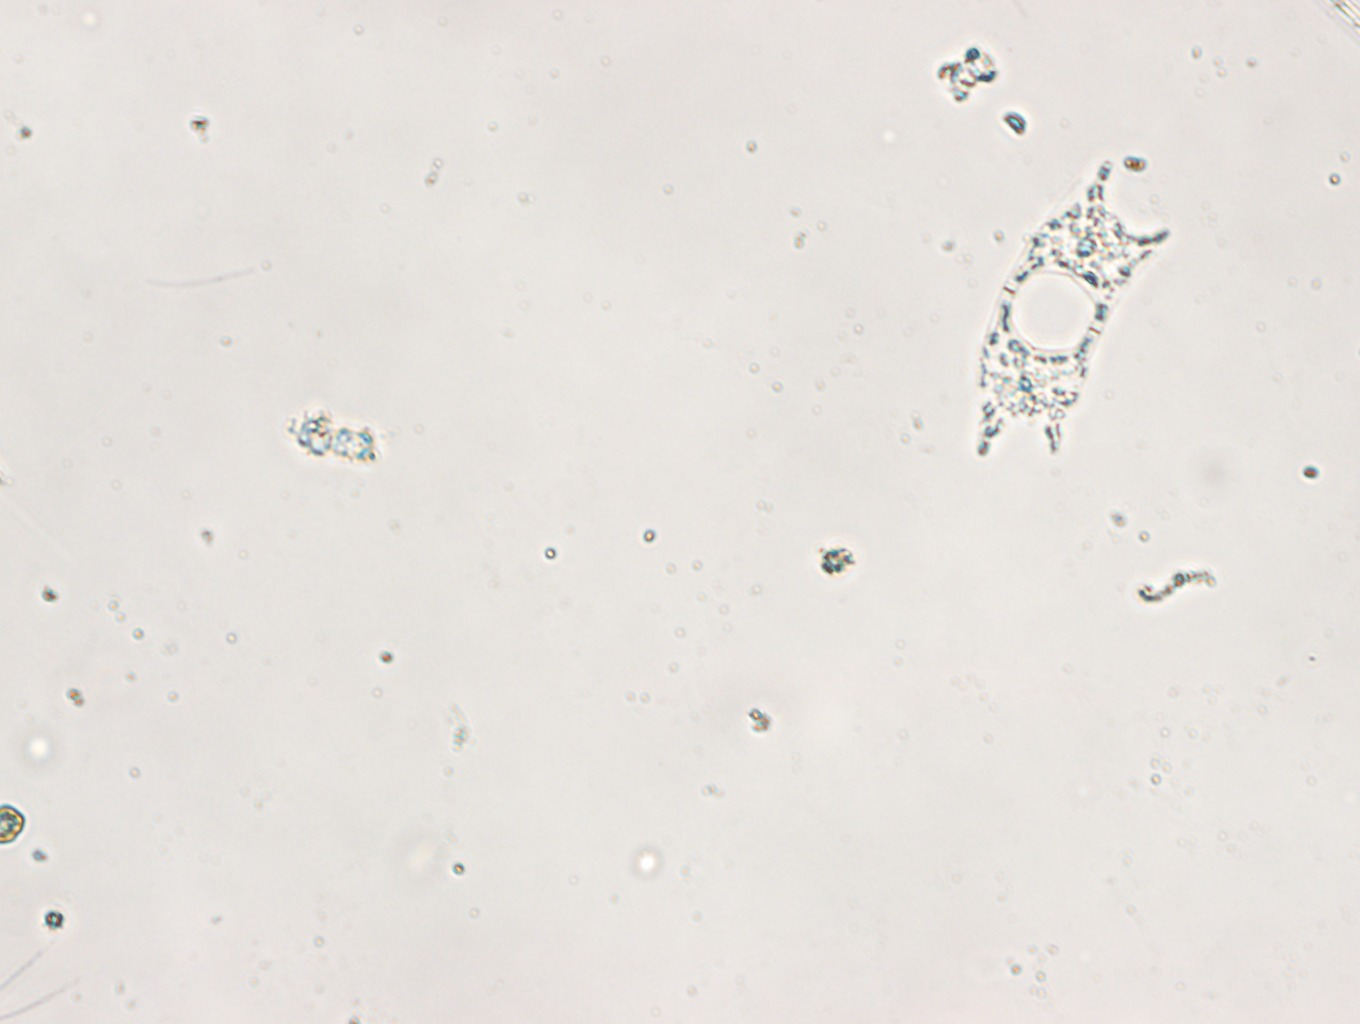eucampia: (973, 140, 1173, 472)
